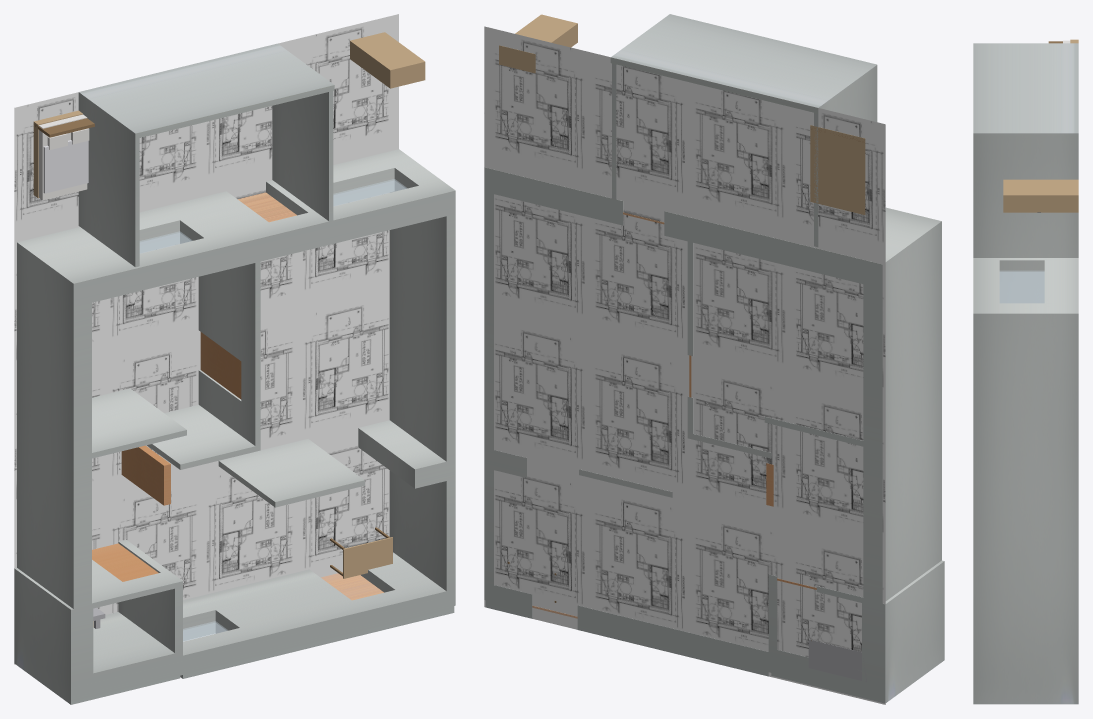
The picture shows the model from 3 angles, left to right: view 1: azimuth 30°, elevation 25°; view 2: azimuth 150°, elevation 25°; view 3: azimuth 270°, elevation 25°; orthographic projection. The views are drawn at different scales.
Parts seen in each view (by area): view 1: WallMesh, Floor, DoorMesh, Furniture_2, Furniture_3, WindowMesh, Furniture_1; view 2: Floor, WallMesh, Furniture_2, Furniture_3, Furniture_0, DoorMesh; view 3: WallMesh, Furniture_3, WindowMesh.
Part boxes in pixels (bbox=[...]): WallMesh: bbox=[14, 43, 455, 704]; Floor: bbox=[14, 14, 398, 664]; DoorMesh: bbox=[92, 192, 383, 600]; Furniture_2: bbox=[33, 110, 94, 199]; Furniture_3: bbox=[350, 32, 425, 88]; WindowMesh: bbox=[139, 179, 407, 641]; Furniture_1: bbox=[330, 527, 392, 578]; Floor: bbox=[484, 26, 885, 704]; WallMesh: bbox=[484, 14, 944, 703]; Furniture_2: bbox=[810, 125, 865, 214]; Furniture_3: bbox=[499, 14, 577, 73]; Furniture_0: bbox=[808, 639, 866, 682]; DoorMesh: bbox=[532, 212, 816, 618]; WallMesh: bbox=[973, 43, 1078, 704]; Furniture_3: bbox=[1003, 179, 1078, 212]; WindowMesh: bbox=[999, 271, 1044, 303].
Bounding box in the file's own units: 10.95 × 15.15 × 2.8.
Materials: 8 (3 with a texture image).
